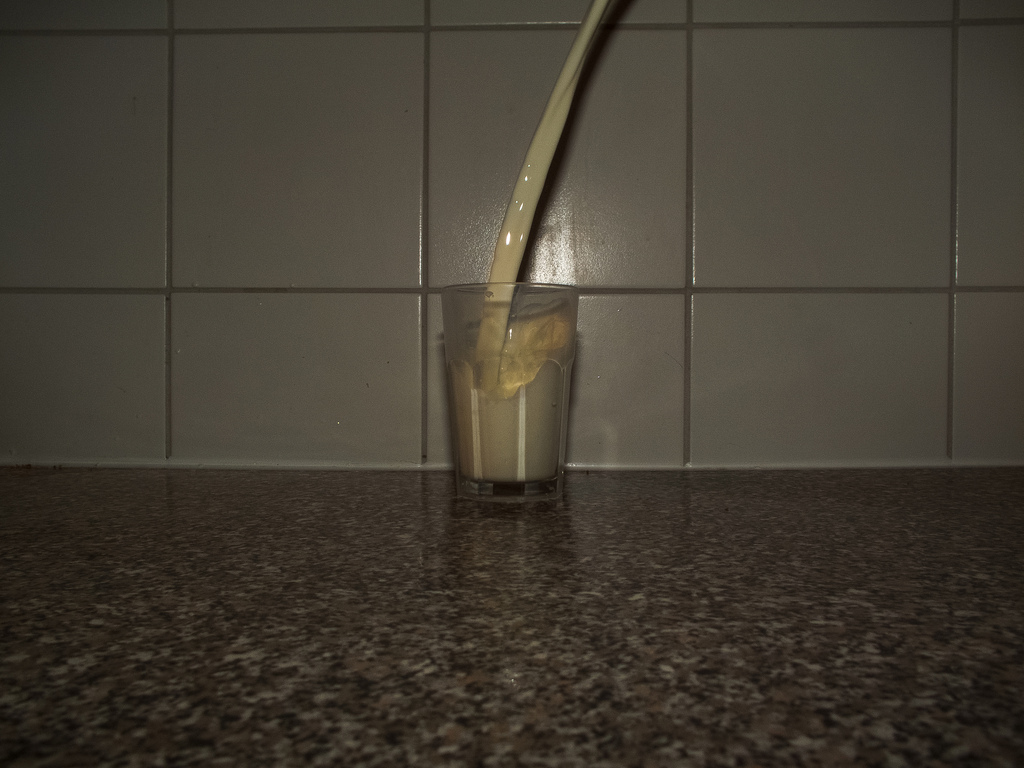glass of milk: (445, 283, 581, 496)
